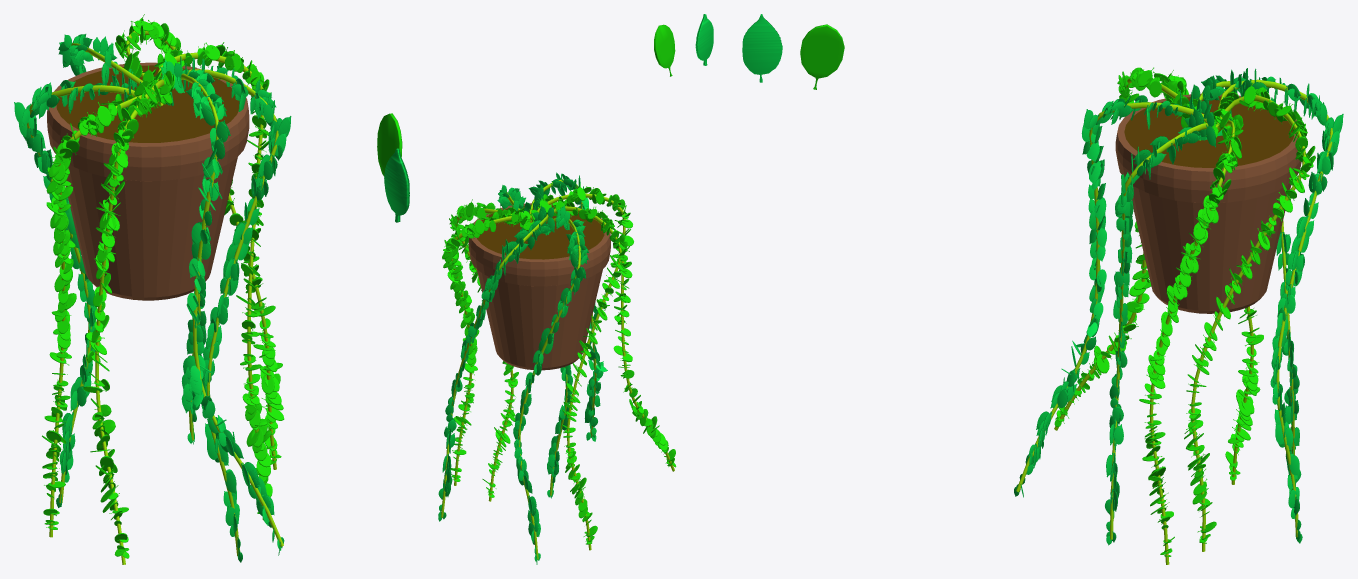
The model's file is plants.fbx.
3 renders of one model, left to right at view 1: azimuth 30°, elevation 25°; view 2: azimuth 150°, elevation 25°; view 3: azimuth 270°, elevation 25°, orthographic. The views are drawn at different scales.
Parts seen in each view (by area): view 1: Circle.006, Circle.001, Circle.004, BezierCurve.004, BezierCurve.001, Cube, BezierCurve.003, BezierCurve, Cube.001, BezierCurve.006, BezierCurve.007, BezierCurve.002 (+1 smaller); view 2: Circle.001, Circle.006, Circle.004, BezierCurve.007, Cube.001, BezierCurve, Cube, BezierCurve.003, BezierCurve.005, BezierCurve.002, BezierCurve.006; view 3: Circle.001, Circle.004, Cube.001, Cube, BezierCurve.002, BezierCurve.005, BezierCurve.001, BezierCurve.004, BezierCurve.006.
Part boxes in pixels (x1,y1,x2,y2): Circle.006: (47, 109, 198, 300); Circle.001: (49, 62, 249, 299); Circle.004: (56, 65, 239, 142); BezierCurve.004: (180, 73, 283, 546); BezierCurve.001: (160, 69, 278, 555); Cube: (384, 148, 409, 222); BezierCurve.003: (95, 79, 164, 564); BezierCurve: (27, 85, 136, 503); Cube.001: (377, 113, 402, 176); BezierCurve.006: (157, 52, 264, 520); BezierCurve.007: (49, 95, 158, 537); BezierCurve.002: (126, 31, 276, 469); Circle.001: (468, 203, 609, 370); Circle.006: (505, 233, 610, 370); Circle.004: (477, 205, 604, 259); BezierCurve.007: (546, 206, 621, 550); Cube.001: (654, 24, 675, 76); BezierCurve: (518, 217, 580, 559); Cube: (695, 14, 713, 65); BezierCurve.003: (537, 193, 674, 471); BezierCurve.005: (441, 214, 548, 517); BezierCurve.002: (448, 215, 532, 485); BezierCurve.006: (455, 208, 520, 501); Circle.001: (1115, 94, 1301, 313); Circle.004: (1124, 96, 1293, 167); Cube.001: (800, 24, 844, 89); Cube: (742, 14, 782, 82); BezierCurve.002: (1191, 95, 1306, 551); BezierCurve.005: (1218, 79, 1332, 537); BezierCurve.001: (1110, 123, 1208, 539); BezierCurve.004: (1016, 102, 1207, 492); BezierCurve.006: (1149, 120, 1235, 564).
Bounding box in the file's own units: 628 × 1393 × 1460.
